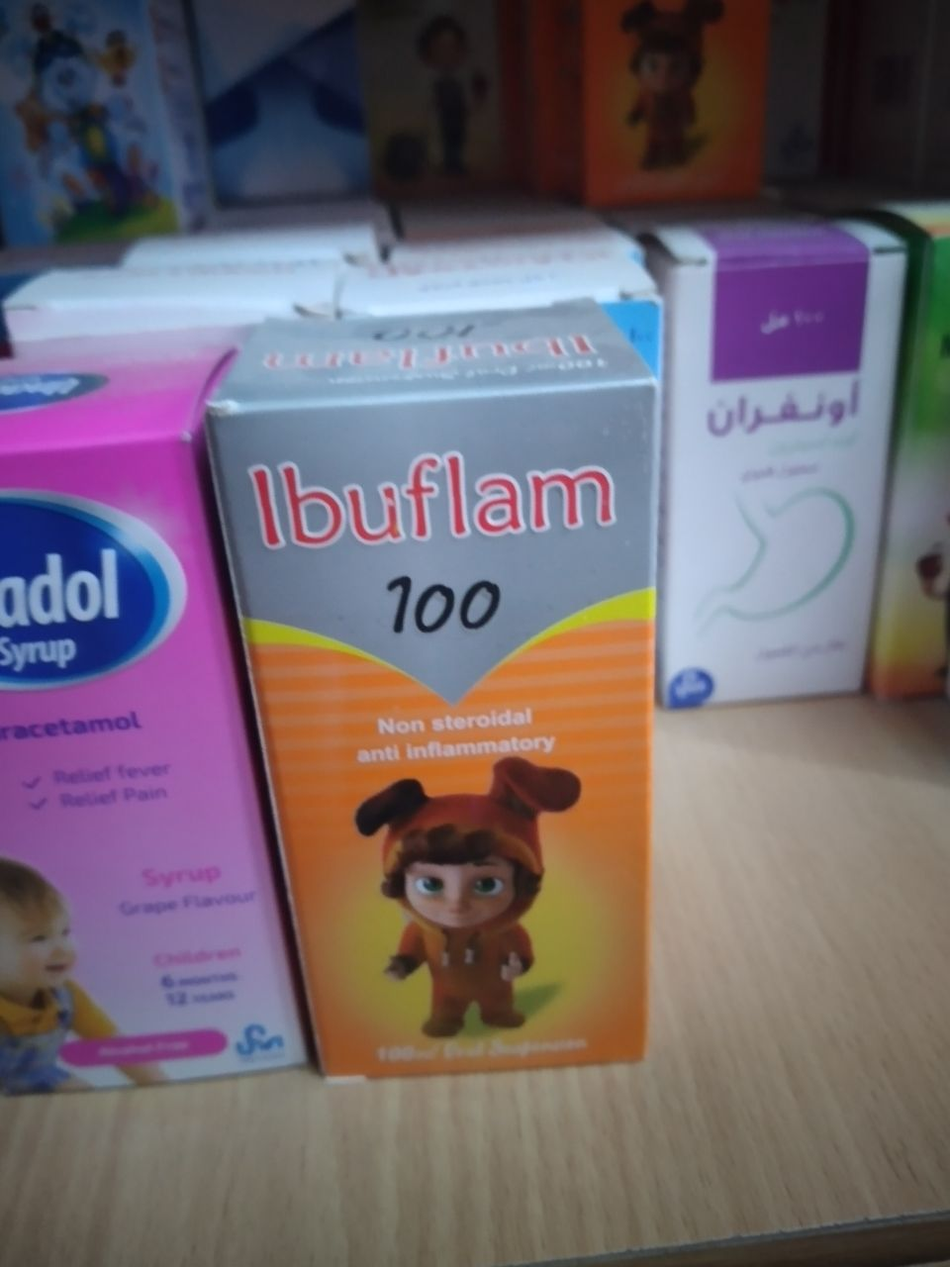Medicine: (195, 333, 693, 1105), (0, 320, 317, 1142), (660, 208, 917, 719)
